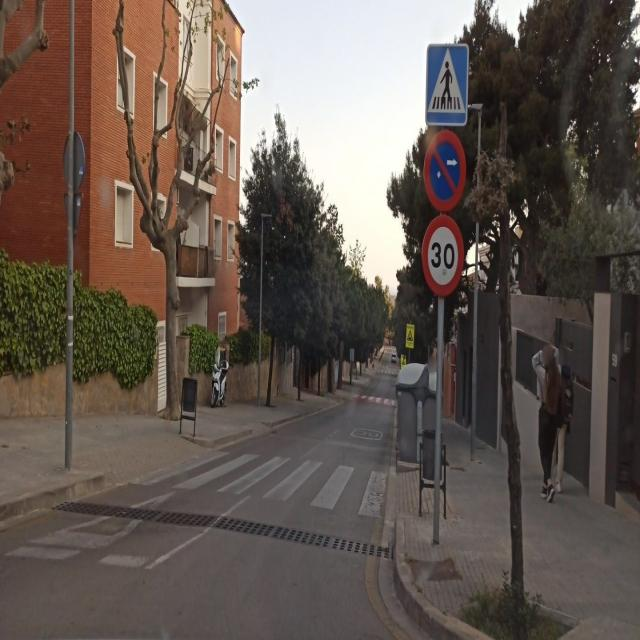forb_stopping: (423, 126, 467, 211)
